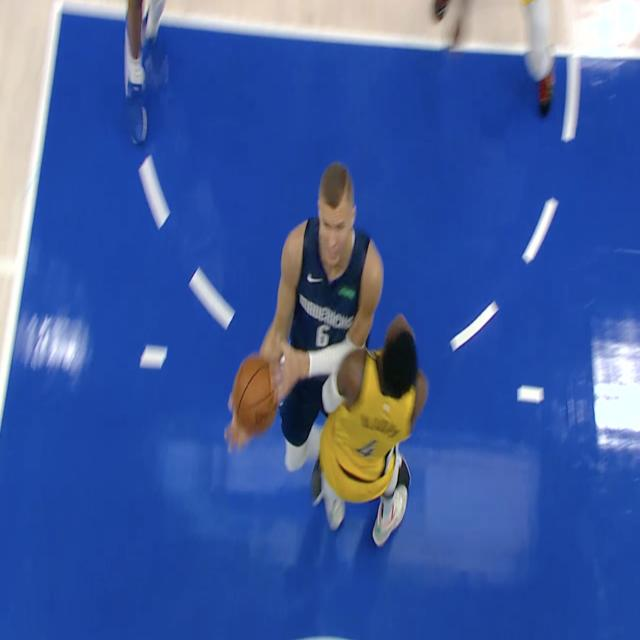Foul: (215, 134, 423, 584)
